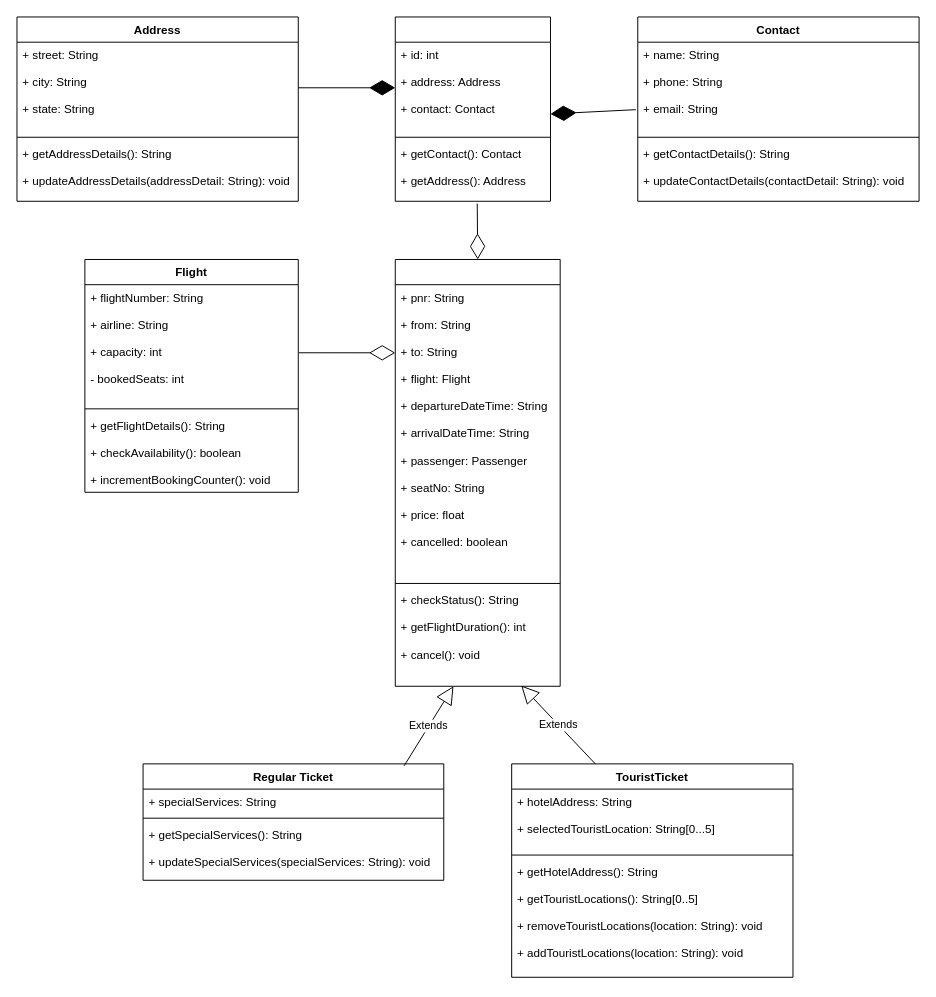
Some shapes in this 936 by 997 pixel diagram are drawn without their labels. The shapes that lost their labels are listed below. From the top down, each one's box as (x1, y1, x2, y2) in pixels, then its label:
(394, 16, 550, 201): Passenger
(394, 259, 560, 686): Ticket
